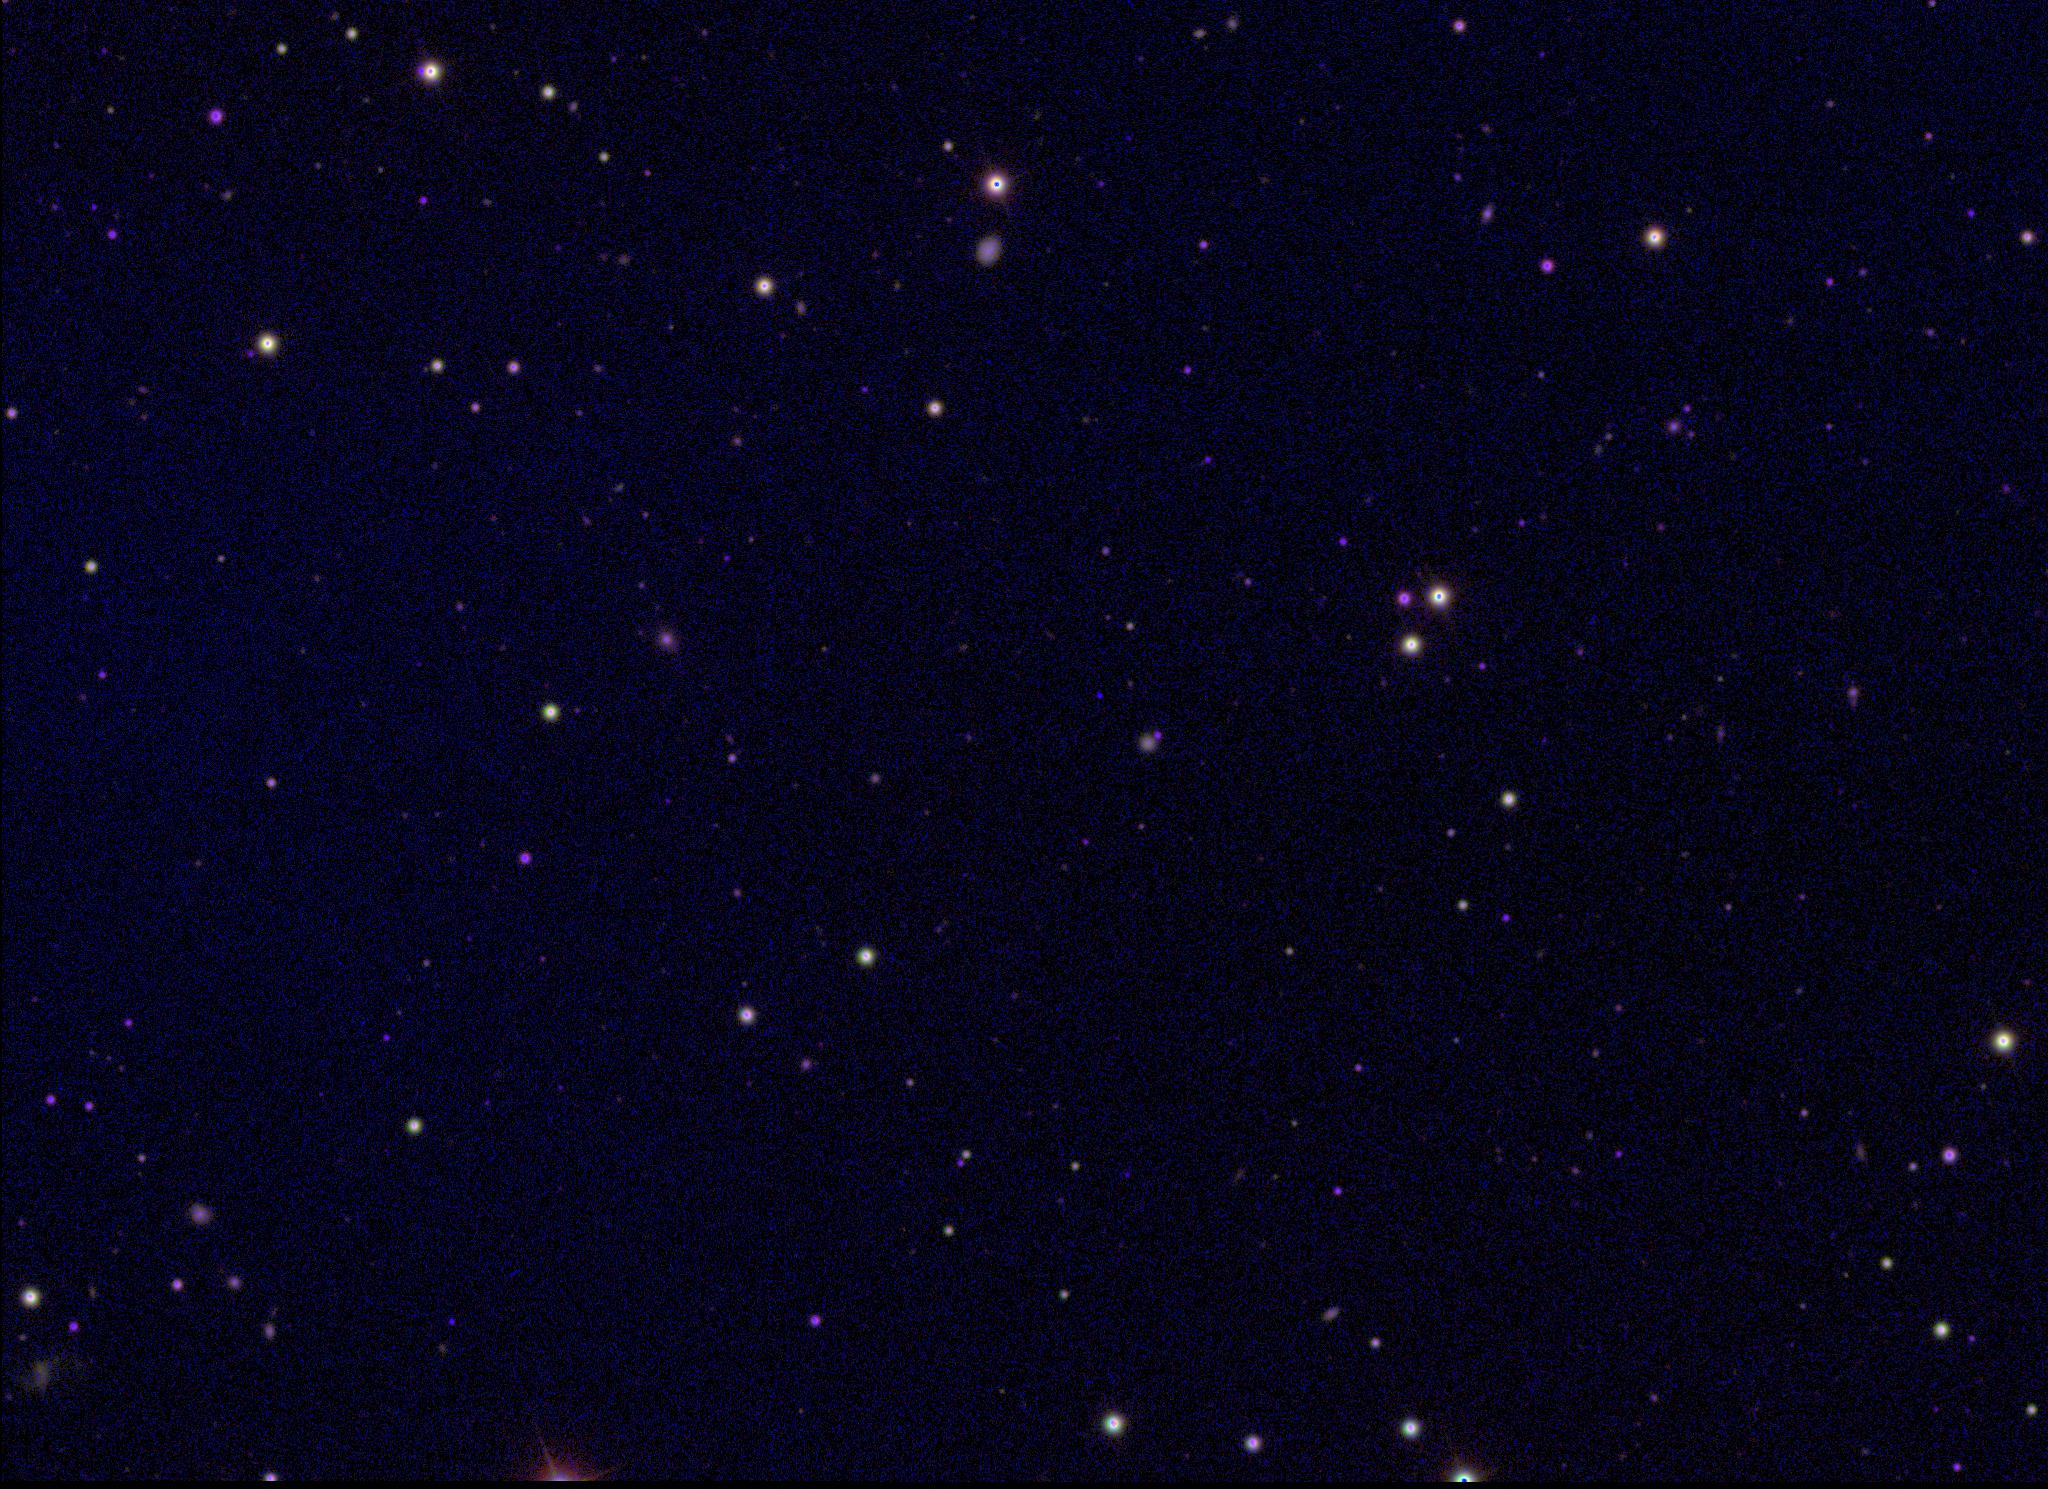L: (1092, 686, 1107, 700)
